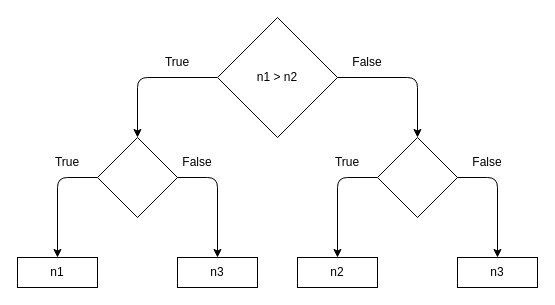
Image size: 555x305. Some labels were removed from this diagram. Each missing label, with the centre of its shape:
"n1 > n3" goes at point 137,177.
"n2 > n3" goes at point 417,177.
